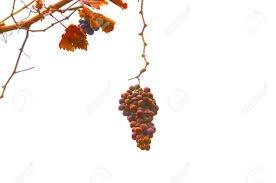Grape Rotten: (118, 84, 160, 151)
